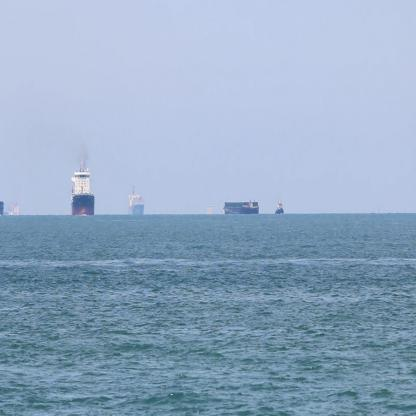Container Ship: (69, 159, 97, 220), (125, 185, 146, 221), (223, 200, 260, 218), (273, 198, 286, 218)
